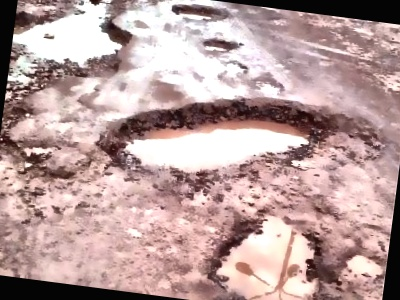pothole: (99, 74, 388, 213), (1, 0, 142, 150), (203, 202, 332, 300), (0, 136, 62, 174), (171, 0, 230, 26), (342, 250, 387, 279), (249, 75, 287, 96), (220, 58, 250, 81), (202, 37, 239, 55)
